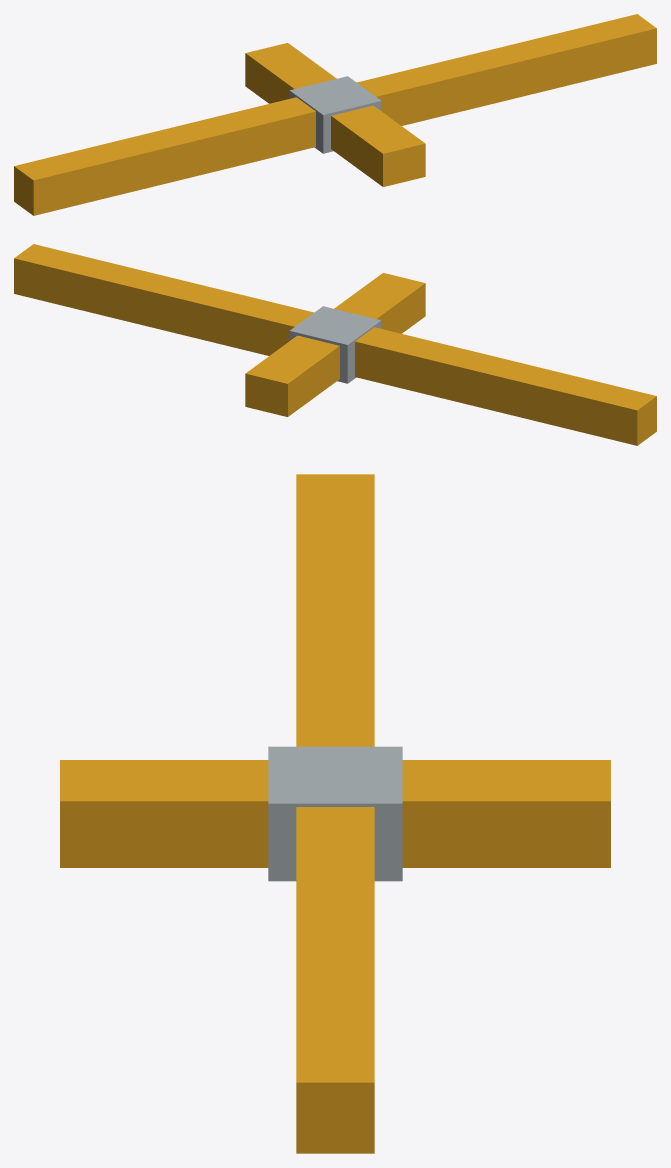
File: spreader20.dae
3 renders of one model, top to bottom at view 1: azimuth 30°, elevation 25°; view 2: azimuth 150°, elevation 25°; view 3: azimuth 270°, elevation 25°, orthographic. The views are drawn at different scales.
Parts seen in each view (by area): view 1: main_beam, end_beam_aft, hoist_eye; view 2: main_beam, end_beam_aft, hoist_eye; view 3: main_beam, end_beam_aft, hoist_eye.
Boxes of the visible parts, x1,y1,x2,y2 form: main_beam: (14, 14, 656, 215); end_beam_aft: (245, 43, 425, 186); hoist_eye: (289, 76, 381, 153); main_beam: (14, 244, 656, 445); end_beam_aft: (245, 273, 425, 416); hoist_eye: (289, 306, 381, 383); main_beam: (296, 474, 374, 1153); end_beam_aft: (60, 760, 610, 867); hoist_eye: (268, 746, 402, 881).
Bounding box in the file's own units: 5.88 × 2.25 × 0.35.
